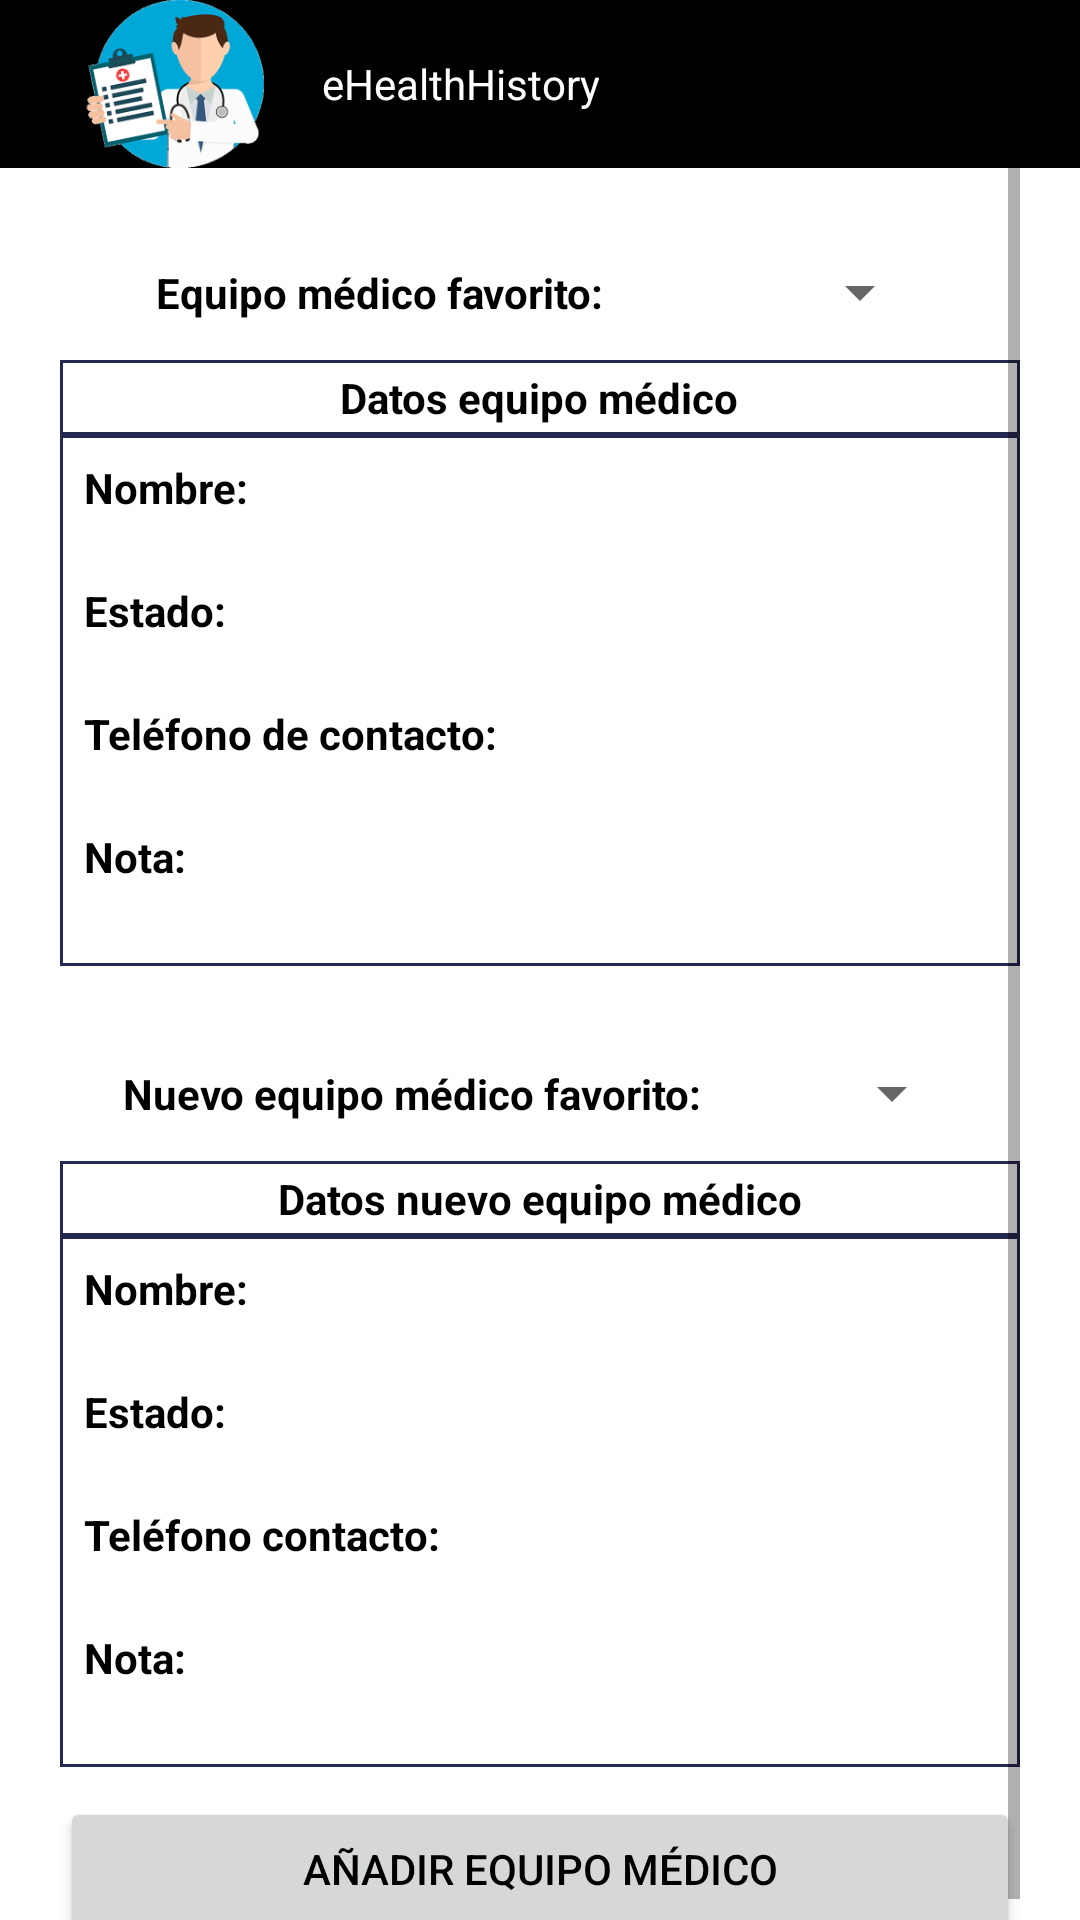

Icons on this 1080px×1920px Android screen, each with its box as BBox(x1, y1, x2, y2):
Imagen de la aplicación: BBox(86, 0, 264, 168)
